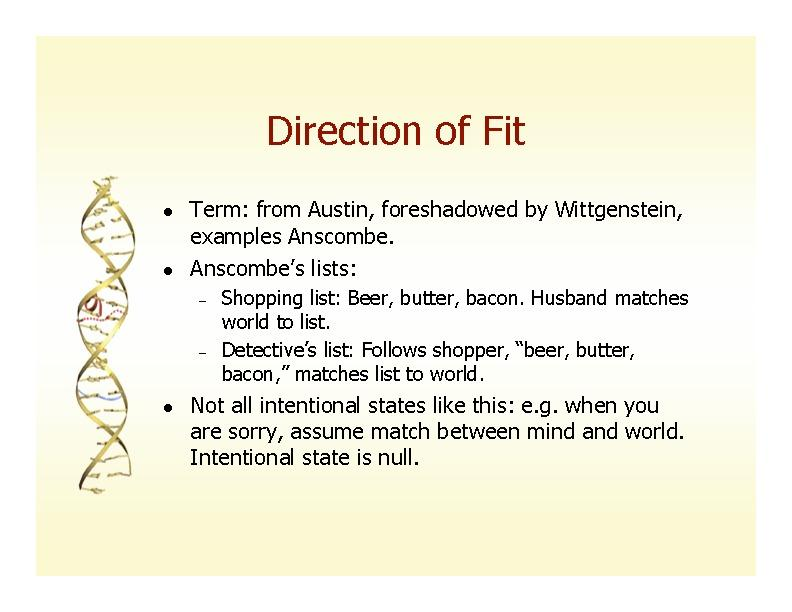paragraph: (154, 191, 705, 480), (259, 100, 540, 161)
